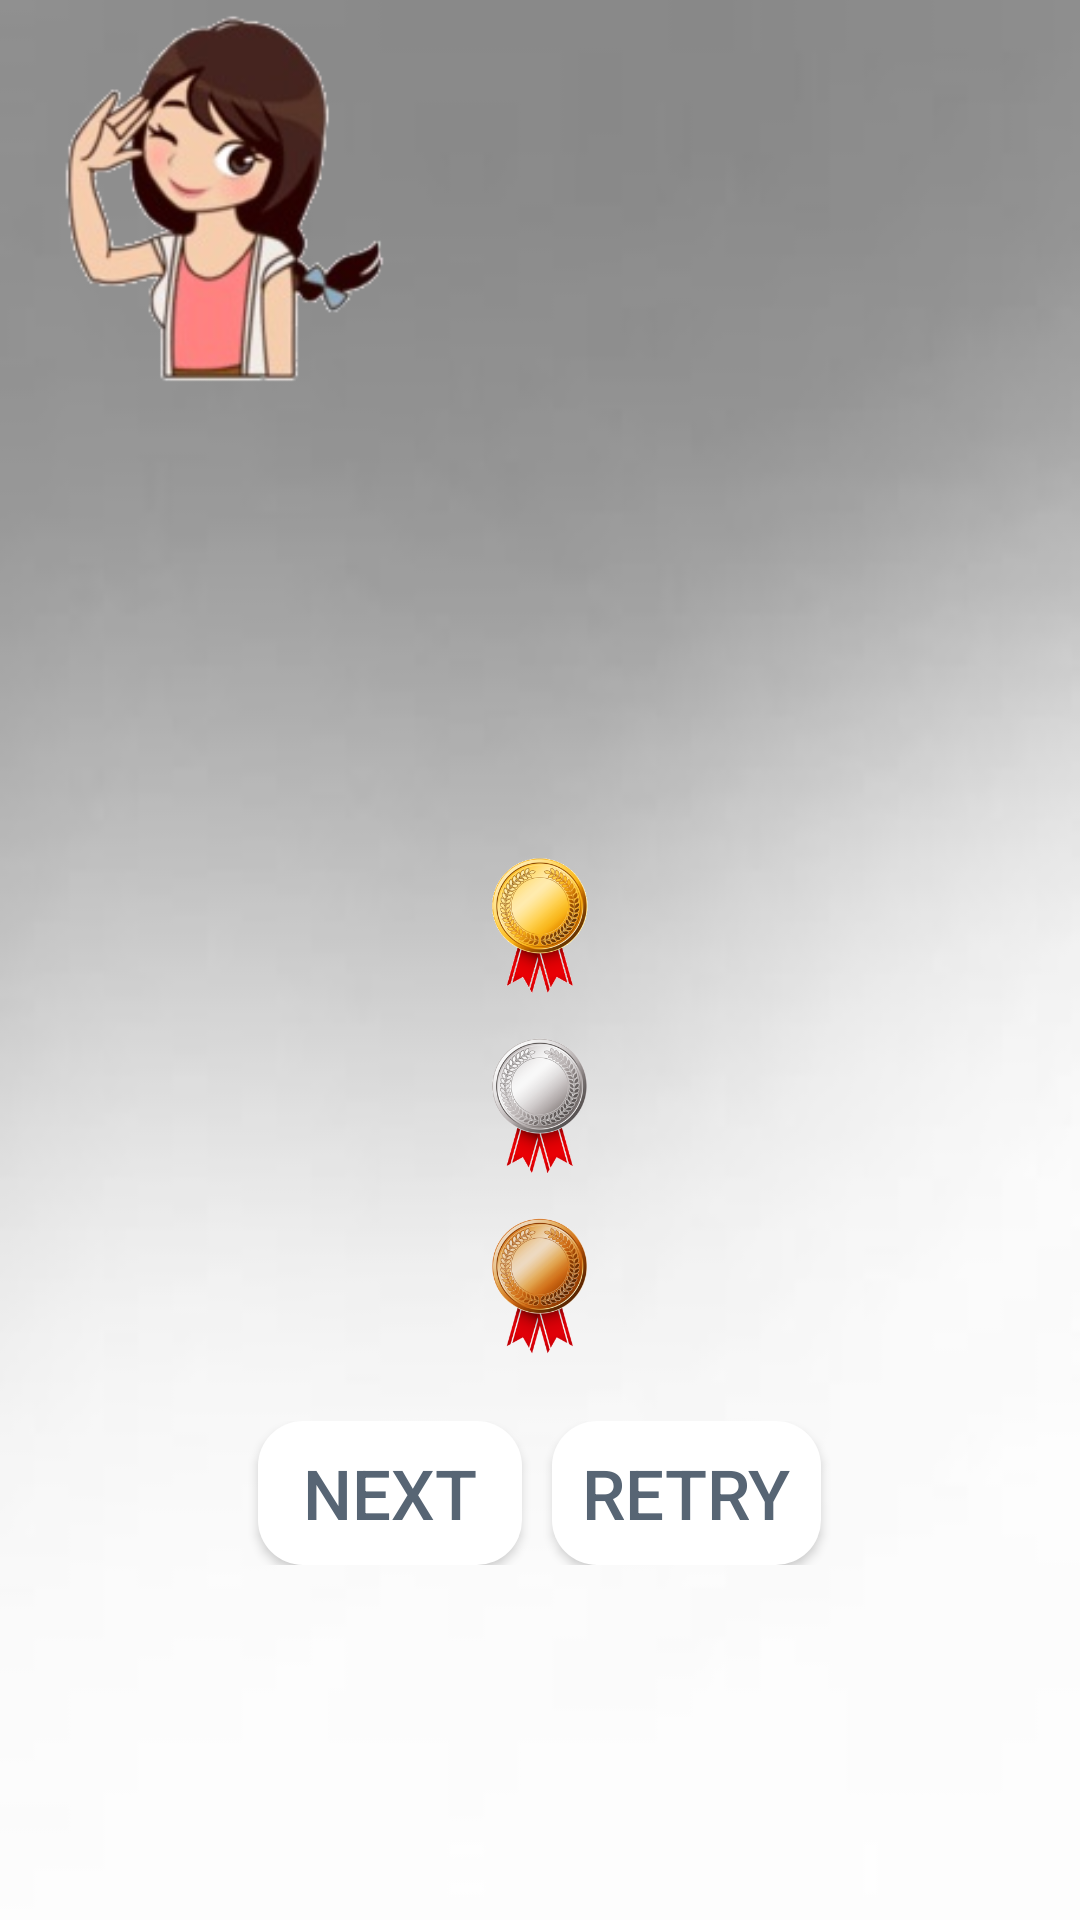

Point at icon controls on the screen. Image size 1080px x 1920px, points as (x=x, y=y).
bronze medals: (x=539, y=1285)
gold medals: (x=539, y=925)
silver medals: (x=539, y=1106)
